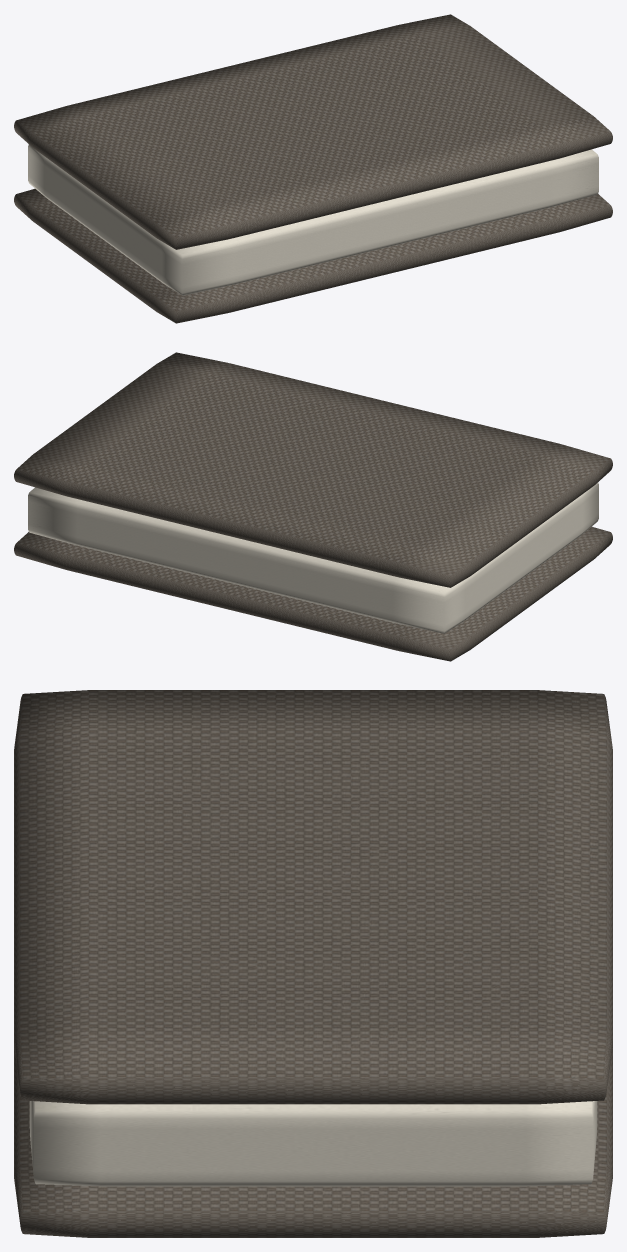
The model's file is library_book_4.glb.
The picture shows the model from 3 angles, top to bottom: view 1: azimuth 30°, elevation 25°; view 2: azimuth 150°, elevation 25°; view 3: azimuth 270°, elevation 25°; orthographic projection. The views are drawn at different scales.
Size of the model in its own units: 2.36 by 0.484 by 1.52.
Materials: 2 (2 with a texture image).
